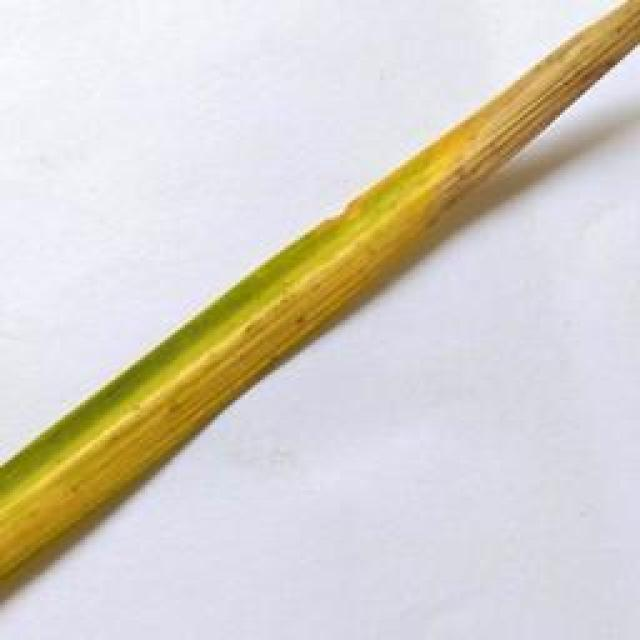Bacterial_Blight: (372, 0, 639, 262)
Brown_Spot: (287, 308, 315, 335), (150, 399, 188, 418)
